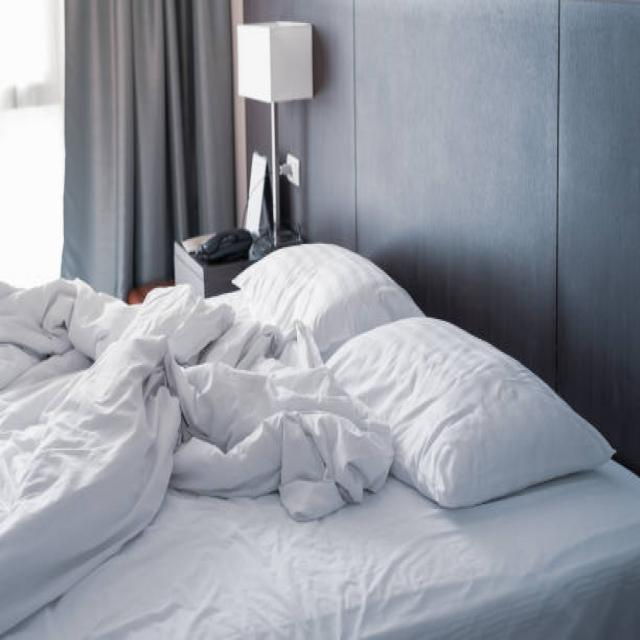bed: (2, 221, 613, 640)
